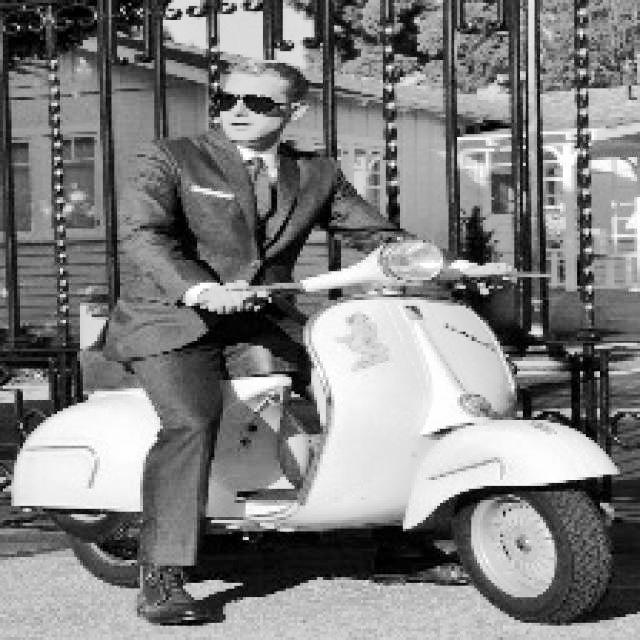Bike: (244, 264, 632, 621)
